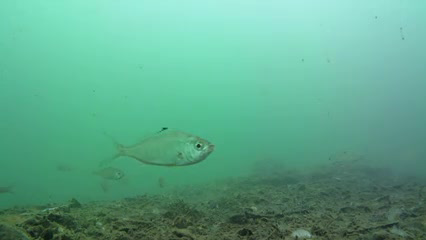smallfish: (116, 124, 221, 180), (89, 165, 124, 181)
